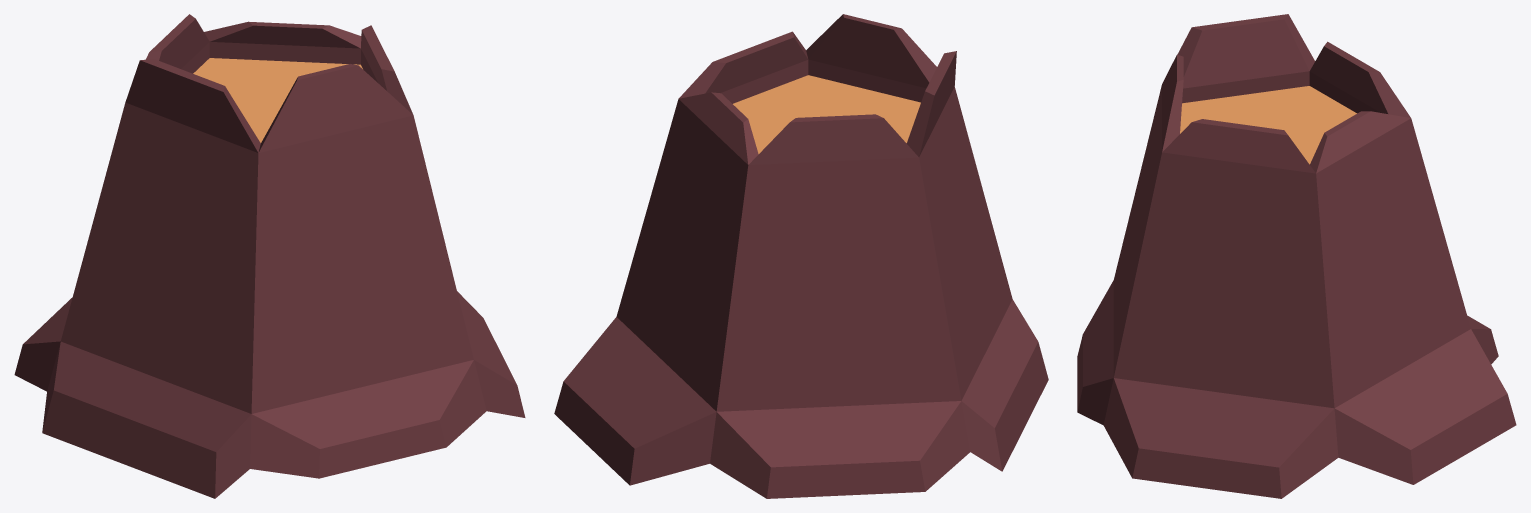
The model's file is log_4.fbx.
The picture shows the model from 3 angles, left to right: view 1: azimuth 30°, elevation 25°; view 2: azimuth 150°, elevation 25°; view 3: azimuth 270°, elevation 25°; orthographic projection. The views are drawn at different scales.
Visible parts, largest first — view 1: Cylinder; view 2: Cylinder; view 3: Cylinder.
Boxes of the visible parts, <box> form: Cylinder: <box>14,14,525,498</box>; Cylinder: <box>554,14,1048,498</box>; Cylinder: <box>1077,14,1516,498</box>.
Bounding box in the file's own units: 63.87 × 52.43 × 62.49.
